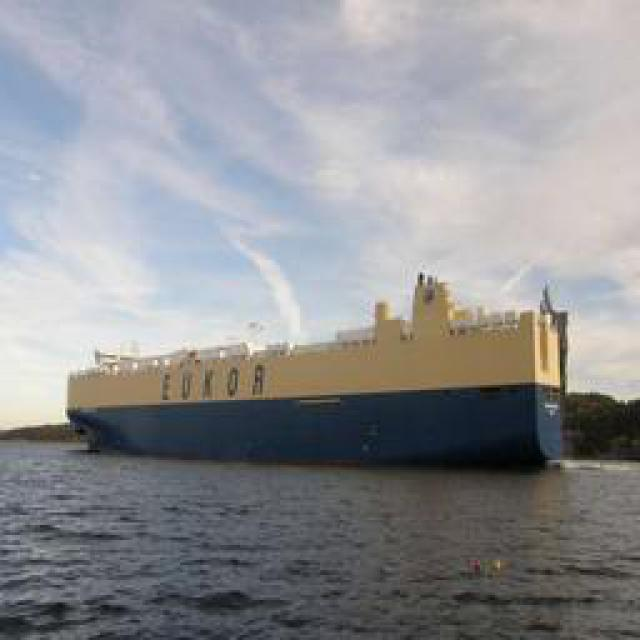Ship: (69, 278, 569, 463)
